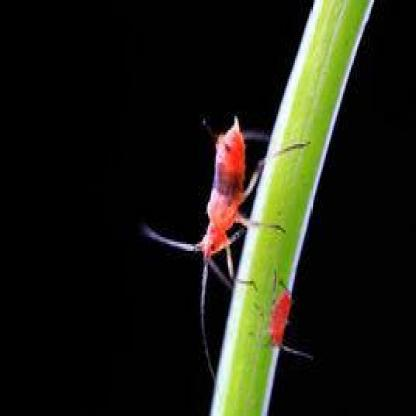aphid: (151, 111, 274, 353), (268, 272, 309, 378)
